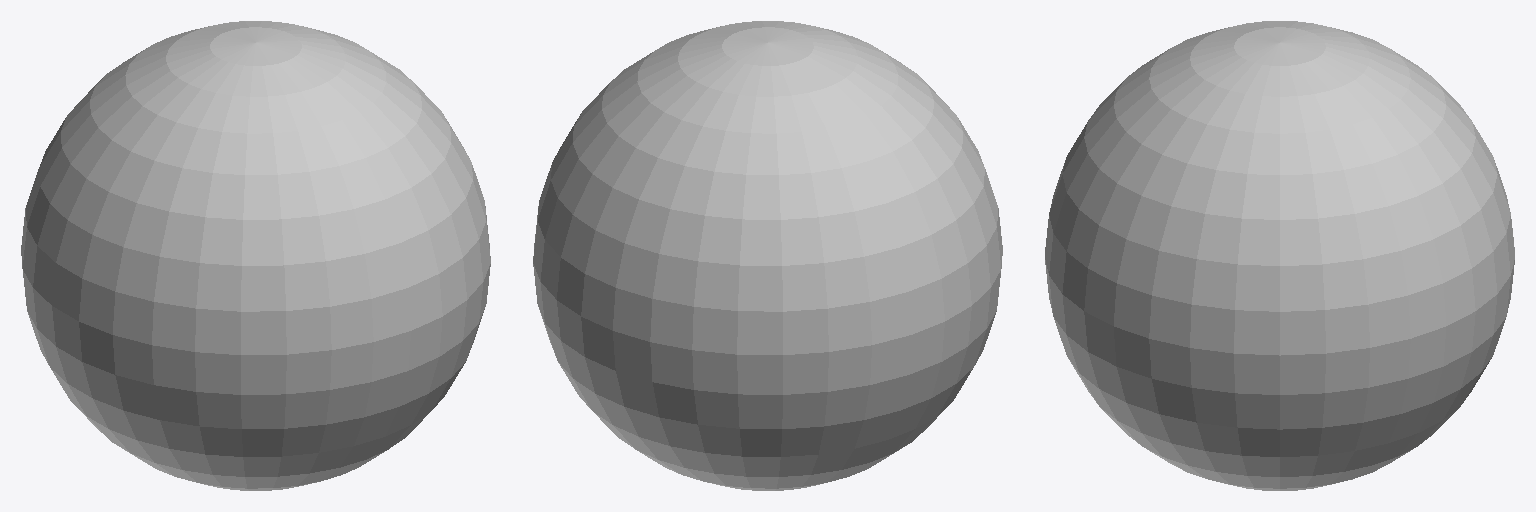
Rendered from luna.obj.
3 views of the same model, side by side, from view 1: azimuth 30°, elevation 25°; view 2: azimuth 150°, elevation 25°; view 3: azimuth 270°, elevation 25° (orthographic).
Parts seen in each view (by area): view 1: Sphere.004_Material.005_0; view 2: Sphere.004_Material.005_0; view 3: Sphere.004_Material.005_0.
Boxes of the visible parts, x1=… form: Sphere.004_Material.005_0: x1=21, y1=21, x2=490, y2=490; Sphere.004_Material.005_0: x1=533, y1=21, x2=1002, y2=490; Sphere.004_Material.005_0: x1=1045, y1=21, x2=1514, y2=490.
Bounding box in the file's own units: 0.3587 × 0.3587 × 0.3587.